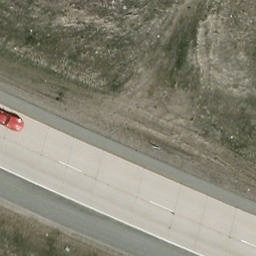car: (0, 104, 25, 133)
